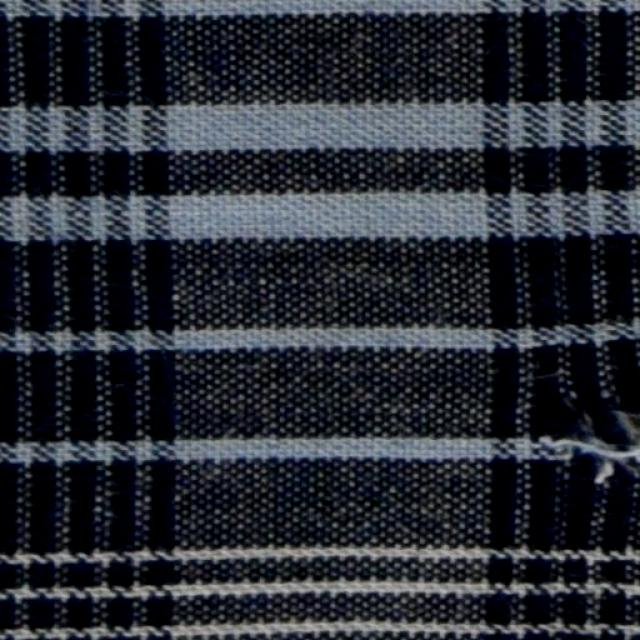Snag: (563, 397, 636, 499)
